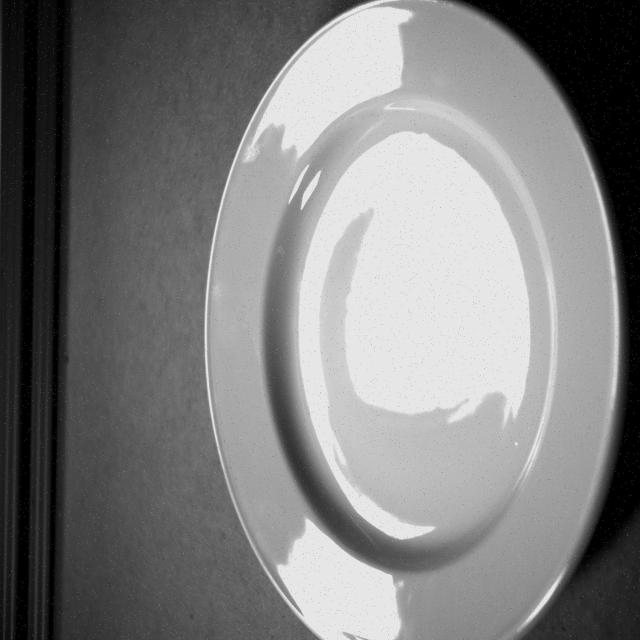plate: (185, 0, 629, 640)
